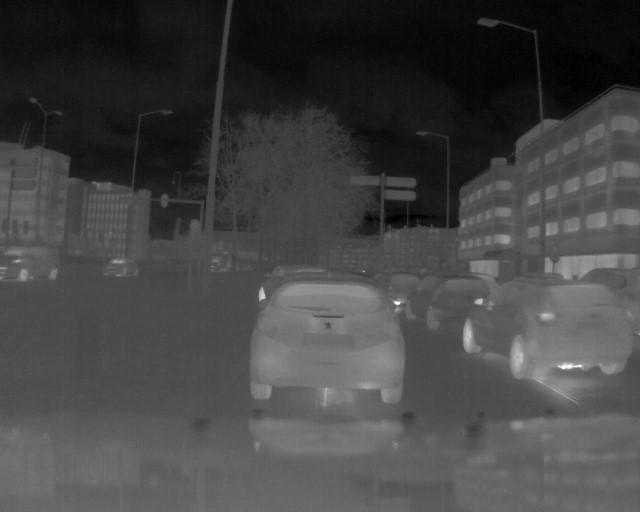car: (248, 279, 407, 404), (462, 279, 634, 381), (409, 272, 489, 328), (1, 244, 59, 285), (101, 254, 141, 280)
